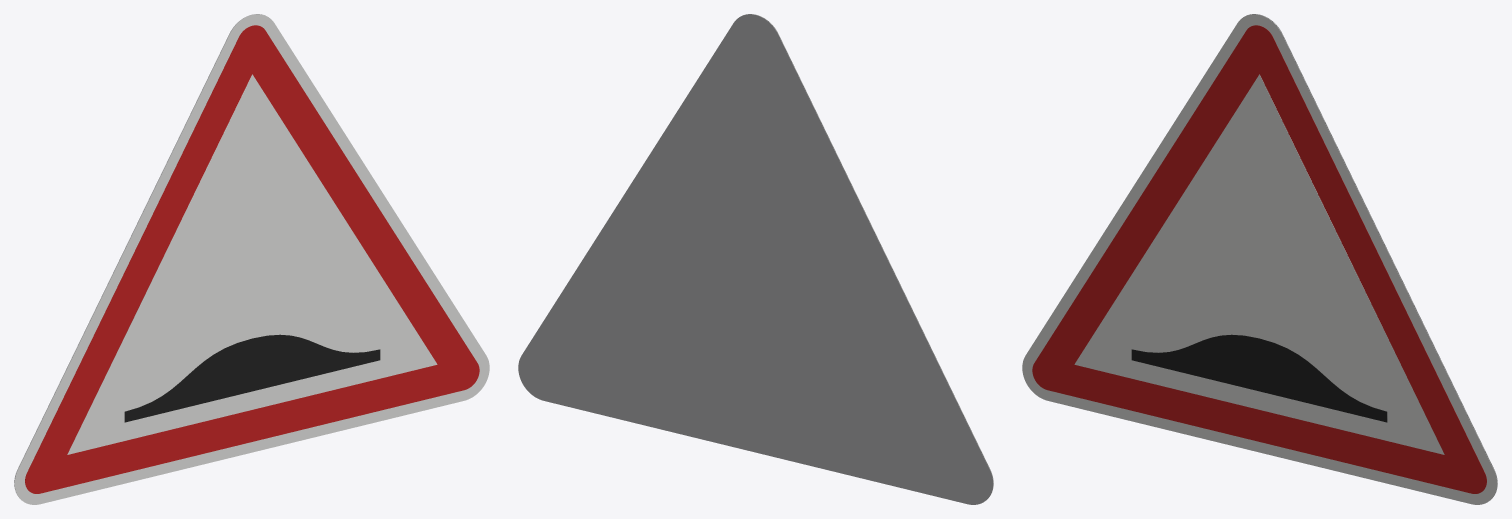
The picture shows the model from 3 angles, left to right: view 1: azimuth 30°, elevation 25°; view 2: azimuth 150°, elevation 25°; view 3: azimuth 330°, elevation 25°; orthographic projection.
Parts seen in each view (by area): view 1: A2b_p02, A2b_p01, A2b_p00, A2b_p03, A2b_dos; view 2: A2b_dos, A2b_p00; view 3: A2b_p02, A2b_p01, A2b_p00, A2b_p03, A2b_dos.
Boxes of the visible parts, x1,y1,x2,y2 form: A2b_p02: (67, 74, 437, 454); A2b_p01: (25, 25, 479, 493); A2b_p00: (14, 14, 489, 504); A2b_p03: (124, 334, 380, 422); A2b_dos: (14, 14, 265, 500); A2b_dos: (518, 14, 993, 504); A2b_p00: (742, 14, 993, 500); A2b_p02: (1074, 74, 1444, 454); A2b_p01: (1032, 25, 1486, 493); A2b_p00: (1022, 14, 1497, 504); A2b_p03: (1131, 334, 1387, 422); A2b_dos: (1246, 14, 1497, 500).
Size of the model in its own units: 1 by 0.8803 by 0.0031.
